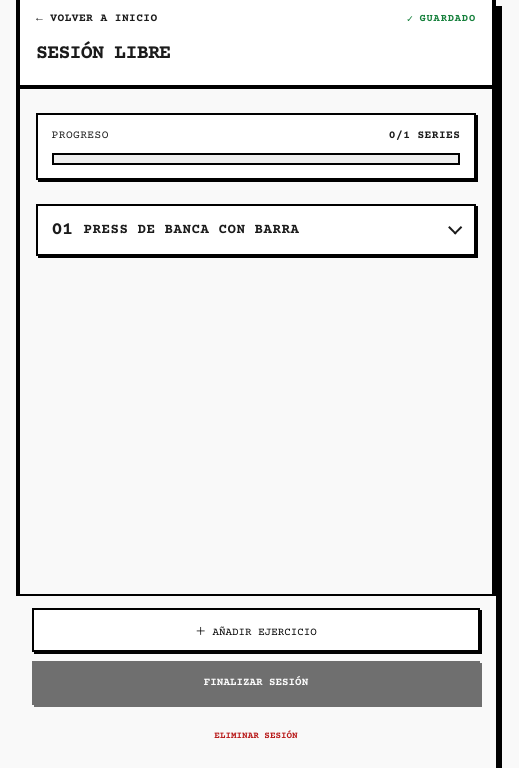
Test: registrar resultados por Serie en la interfaz › una entrada parcial muestra el error junto al campo y no guarda
Click the button "01 Press de banca con barra". click: (256, 230)
box: [38,206,474,254]
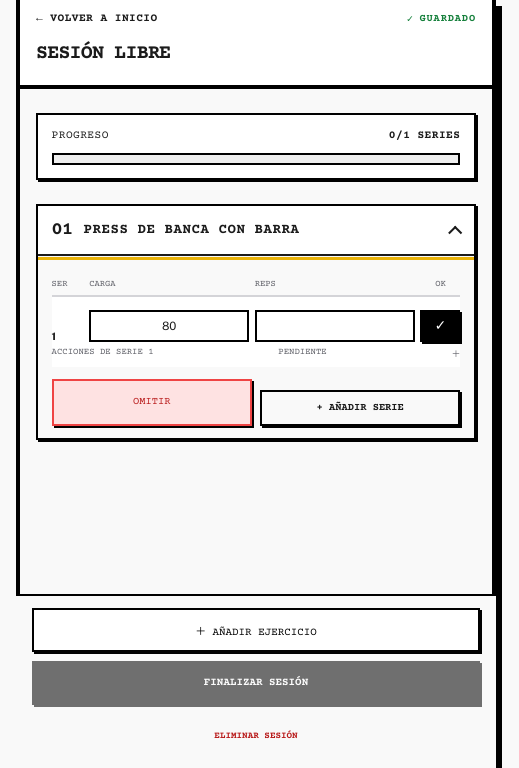
Click the button named "Completar". click: (440, 326)
box: [420,310,460,342]
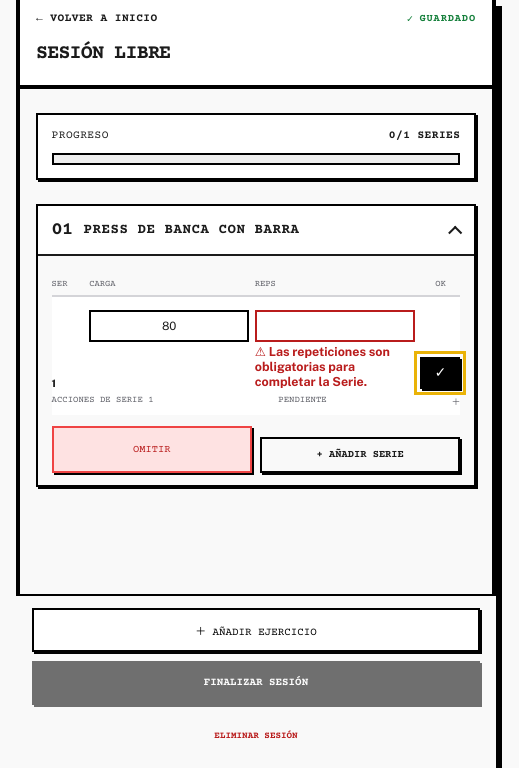
Expected: the text "Pendiente" is shown, [278,395,327,408]
Expected: the text "Las repeticiones son obligatorias para completar la Serie." is shown, [255,344,390,389]
